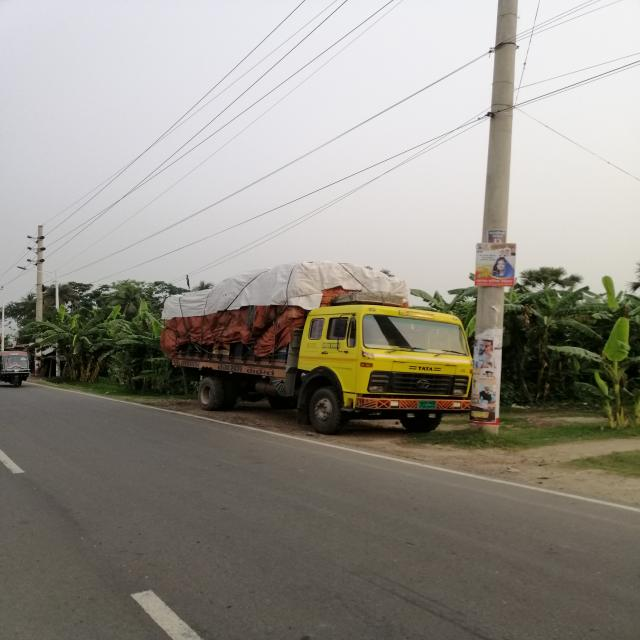Truck: (159, 262, 474, 435)
